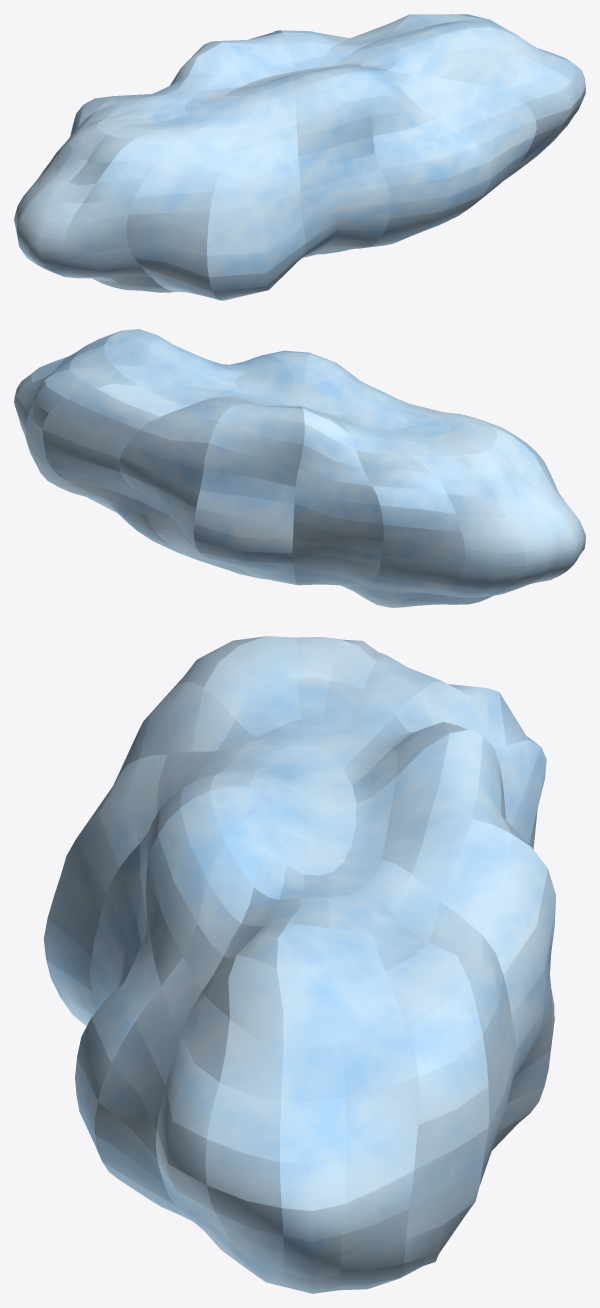
File: cloud1_fly5.fbx
3 renders of one model, top to bottom at view 1: azimuth 30°, elevation 25°; view 2: azimuth 150°, elevation 25°; view 3: azimuth 270°, elevation 25°, orthographic. The views are drawn at different scales.
Visible parts, largest first — view 1: pasted__pSphere2; view 2: pasted__pSphere2; view 3: pasted__pSphere2.
Part boxes in pixels (x1=…): pasted__pSphere2: x1=14, y1=14, x2=585, y2=300; pasted__pSphere2: x1=14, y1=329, x2=585, y2=607; pasted__pSphere2: x1=43, y1=636, x2=556, y2=1293.
Bounding box in the file's own units: 9295 × 3264 × 3681.
Materials: 1 (1 with a texture image).
